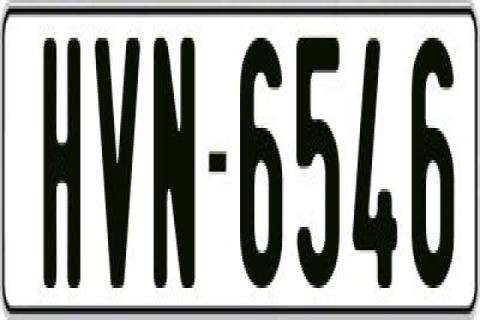0: (353, 38, 401, 288), (240, 38, 282, 302), (412, 35, 454, 297), (296, 29, 338, 282)
H: (43, 38, 88, 288)
N: (150, 32, 198, 282)
V: (94, 29, 146, 279)
